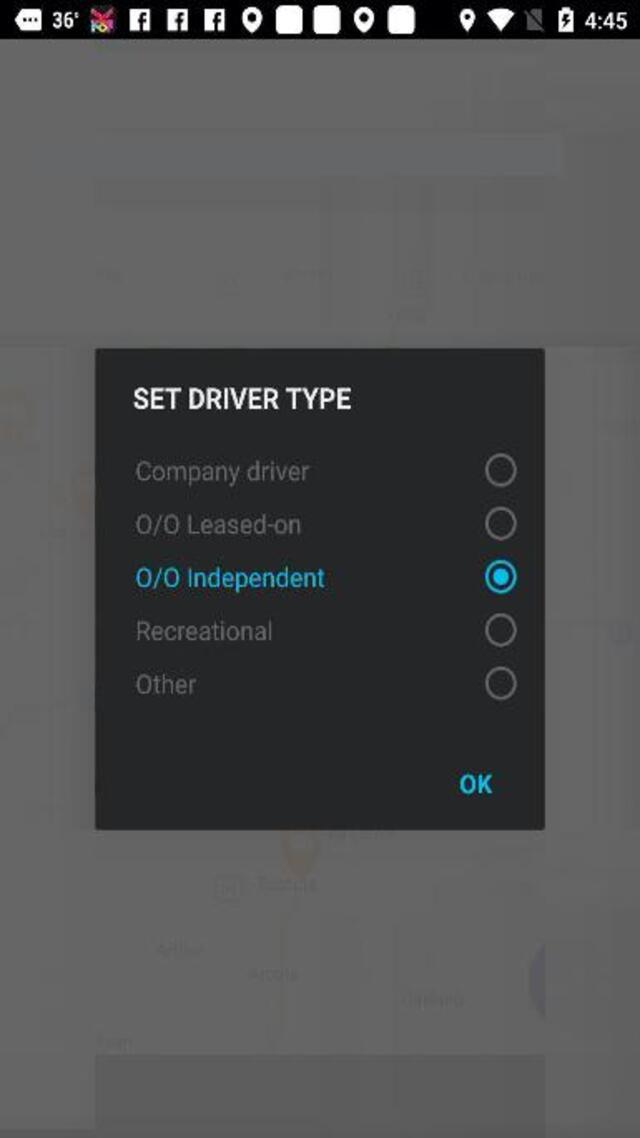CheckedTextView: (136, 452, 516, 486), (137, 614, 518, 646), (137, 667, 518, 699), (136, 507, 516, 539), (138, 560, 517, 592)
Text: (138, 567, 334, 592), (137, 460, 315, 486), (134, 388, 352, 409), (136, 512, 310, 534), (136, 620, 272, 643), (136, 673, 196, 694), (461, 774, 493, 794)
